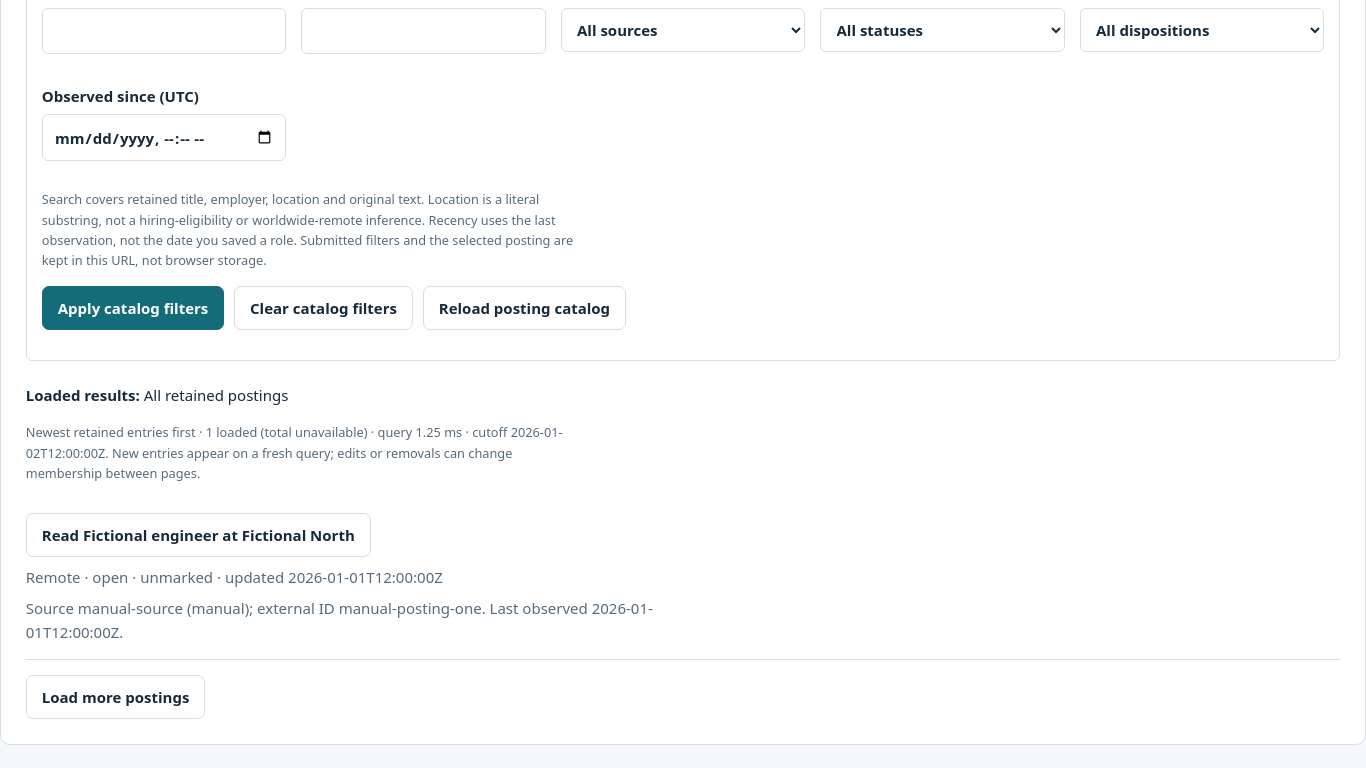
Test: manual postings and retained source history › loads the real next catalog page and preserves the retained list on a later read failure
(page scrolled)
Click the button "Load more postings".
click(116, 697)  # box x1=26 y1=675 x2=205 y2=719
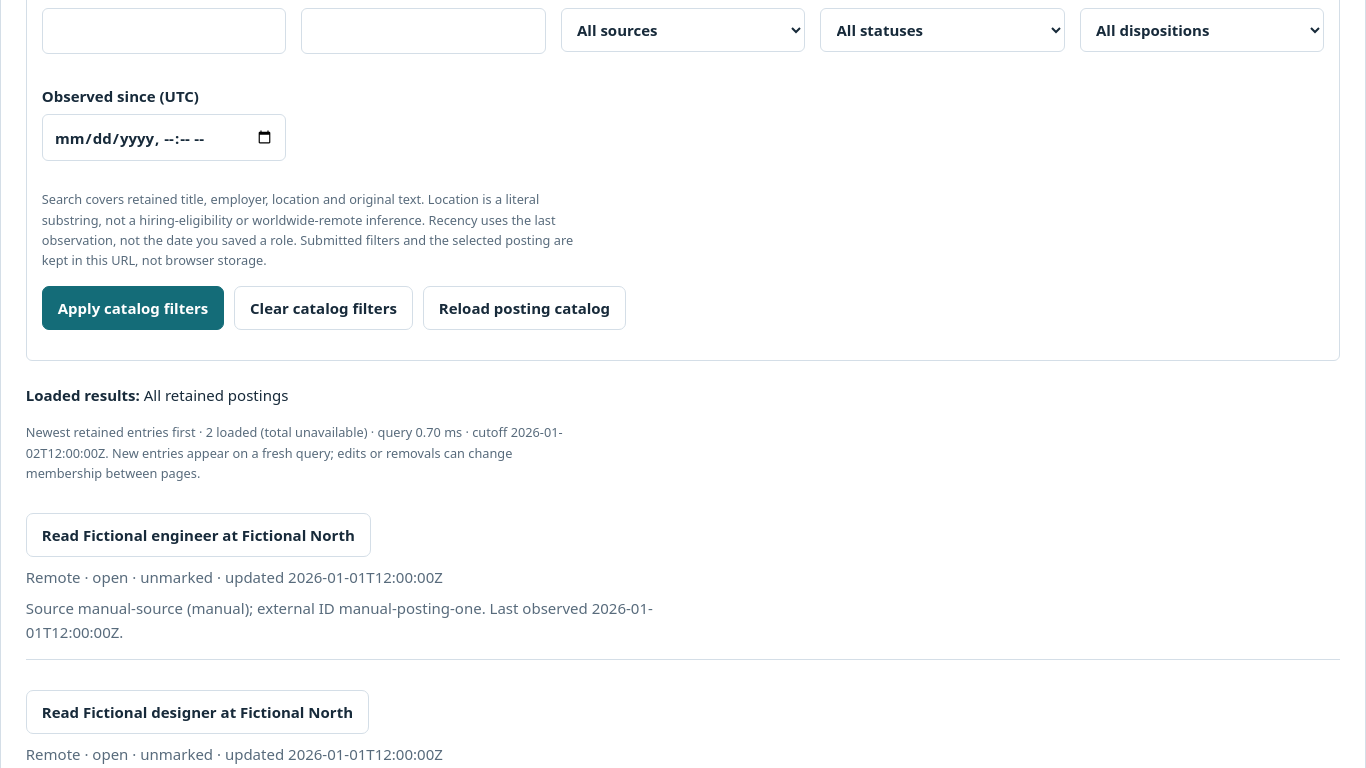
Expected: the button "Read Fictional designer at Fictional North" is shown, x1=26 y1=690 x2=369 y2=734
Click the button "Reload posting catalog".
click(524, 308)  # box x1=423 y1=286 x2=626 y2=330
(page scrolled)
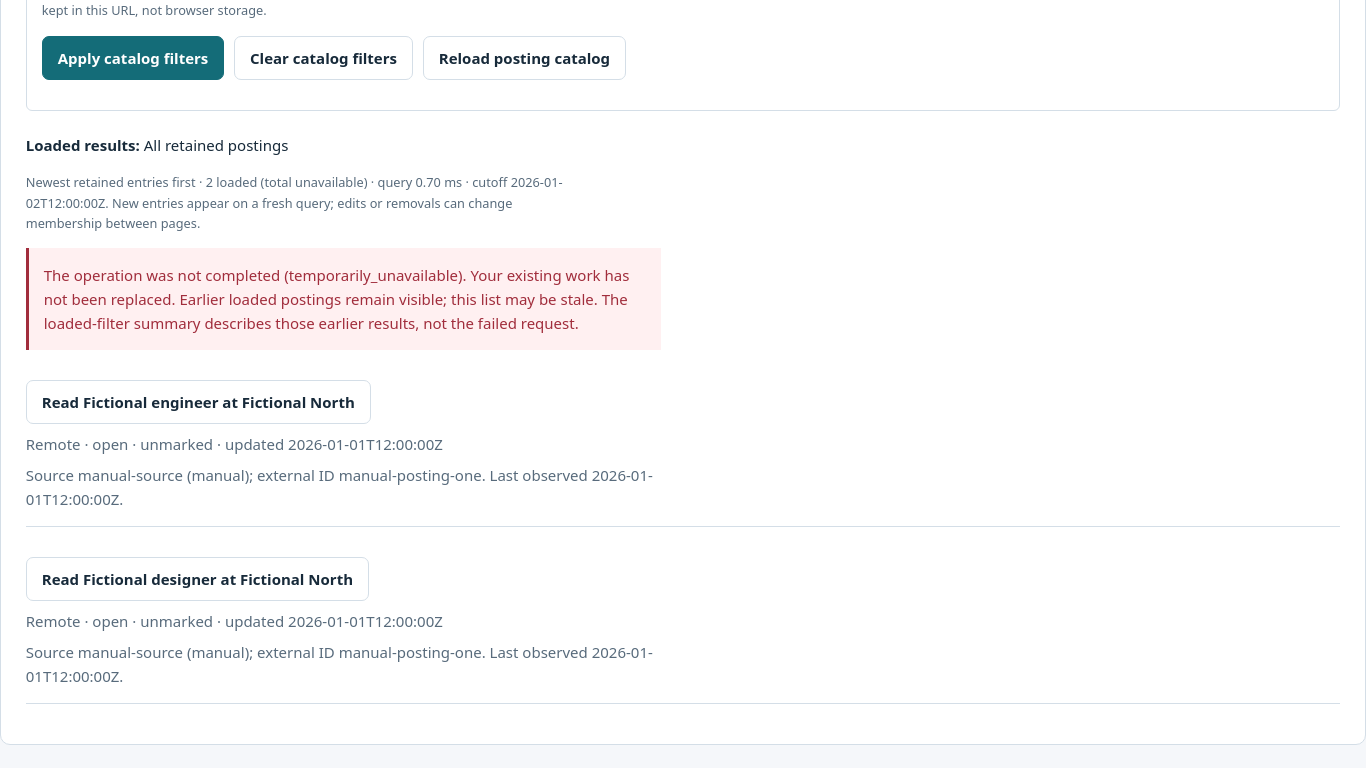
Expected: the button "Read Fictional engineer at Fictional North" is shown, x1=26 y1=380 x2=371 y2=424
Expected: the button "Read Fictional designer at Fictional North" is shown, x1=26 y1=557 x2=369 y2=601
Expected: the text "Earlier loaded postings remain visible" is shown, x1=44 y1=289 x2=628 y2=333
